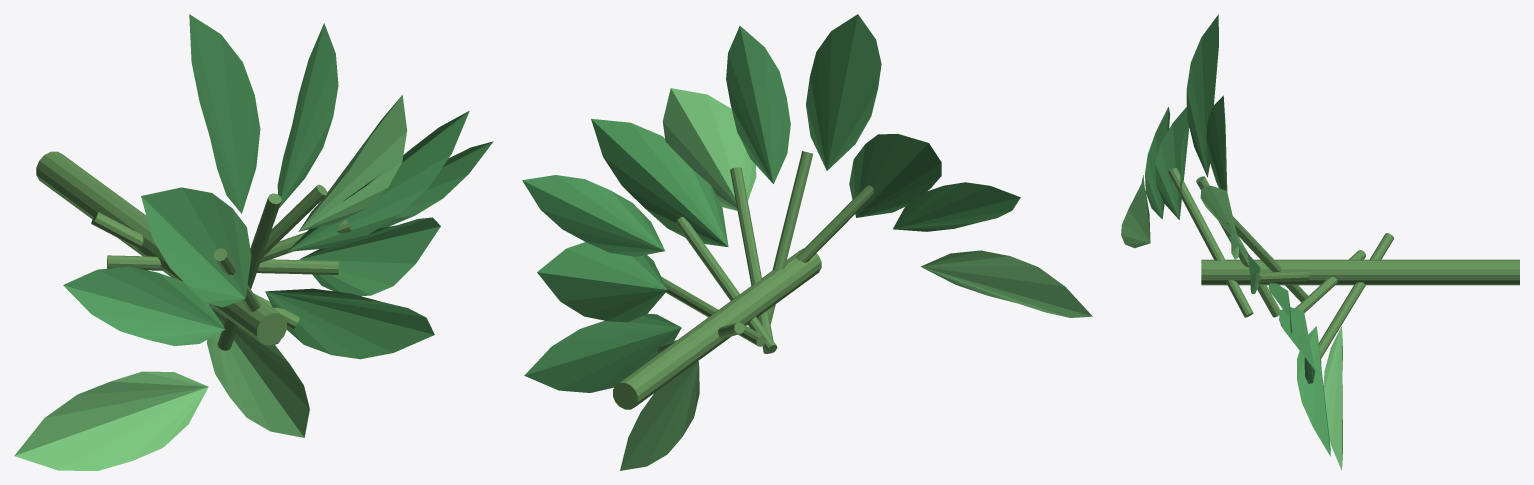
The model's file is potato_haulm_b.glb.
3 views of the same model, side by side, from view 1: azimuth 30°, elevation 25°; view 2: azimuth 150°, elevation 25°; view 3: azimuth 270°, elevation 25° (orthographic). The views are drawn at different scales.
Visible parts, largest first — view 1: leaf_10, leaf_8, leaf_9, leaf_7, leaf_1, leaf_0, main_stem, leaf_2, leaf_4, leaf_5, leaf_6, leaf_3 (+6 smaller); view 2: leaf_4, leaf_7, leaf_1, leaf_2, main_stem, leaf_3, leaf_6, leaf_5, leaf_10, leaf_8, leaf_0, leaf_9 (+5 smaller); view 3: main_stem, leaf_7, leaf_8, leaf_1, leaf_0, branch_5, leaf_6, leaf_10, leaf_2, branch_0, leaf_9, leaf_5 (+5 smaller).
Boxes of the visible parts, x1,y1,x2,y2 form: leaf_10: (14, 371, 208, 470); leaf_8: (141, 187, 251, 307); leaf_9: (63, 266, 225, 345); leaf_7: (189, 14, 260, 213); leaf_1: (265, 288, 434, 359); leaf_0: (207, 307, 309, 437); main_stem: (36, 151, 286, 345); leaf_2: (299, 217, 440, 296); leaf_4: (287, 111, 469, 251); leaf_5: (298, 95, 407, 231); leaf_6: (277, 23, 338, 207); leaf_3: (378, 141, 493, 228); leaf_4: (591, 119, 728, 247); leaf_7: (806, 14, 881, 170); leaf_1: (524, 313, 681, 392); leaf_2: (537, 242, 667, 322); main_stem: (613, 248, 821, 409); leaf_3: (522, 175, 664, 256); leaf_6: (726, 26, 790, 183); leaf_5: (662, 88, 756, 210); leaf_10: (920, 250, 1092, 317); leaf_8: (849, 133, 941, 217); leaf_0: (620, 361, 699, 470); leaf_9: (893, 182, 1020, 231); main_stem: (1201, 259, 1519, 285); leaf_7: (1186, 14, 1218, 177); leaf_8: (1155, 106, 1189, 219); leaf_1: (1297, 326, 1330, 456); leaf_0: (1323, 326, 1342, 470); branch_5: (1168, 168, 1253, 317); leaf_6: (1206, 95, 1227, 190); leaf_10: (1121, 175, 1150, 248); leaf_2: (1279, 307, 1315, 383); branch_0: (1318, 233, 1393, 359); leaf_9: (1145, 107, 1170, 219); leaf_5: (1200, 185, 1238, 259).
Size of the model in its own units: 0.456 by 0.4004 by 0.3747.
